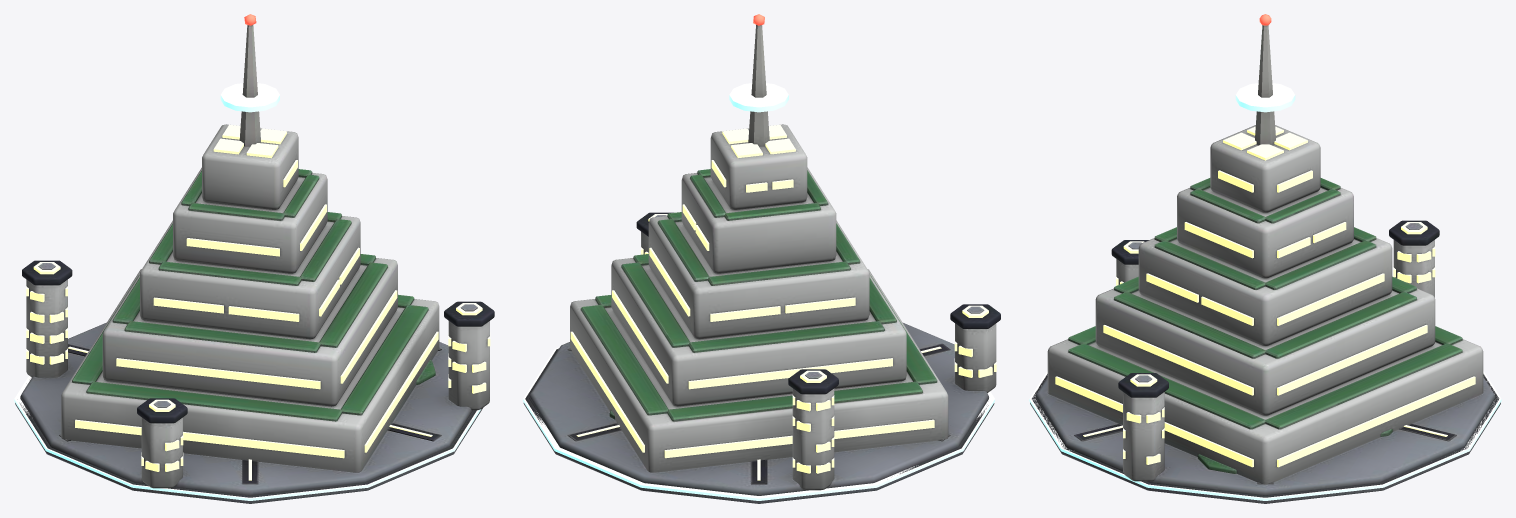
Rendered from city_b.glb.
The picture shows the model from 3 angles, left to right: view 1: azimuth 30°, elevation 25°; view 2: azimuth 150°, elevation 25°; view 3: azimuth 270°, elevation 25°; orthographic projection.
Visible parts, largest first — view 1: city_b, city_b_glow; view 2: city_b, city_b_glow; view 3: city_b, city_b_glow.
Part boxes in pixels (x1,y1,x2,y2): city_b: (15, 25, 494, 503); city_b_glow: (14, 14, 490, 500); city_b: (523, 25, 1000, 503); city_b_glow: (523, 14, 996, 500); city_b: (1030, 25, 1500, 503); city_b_glow: (1029, 14, 1501, 500).
Bounding box in the file's own units: 3.49 × 3.21 × 3.49.
Materials: 4 (1 with a texture image).
